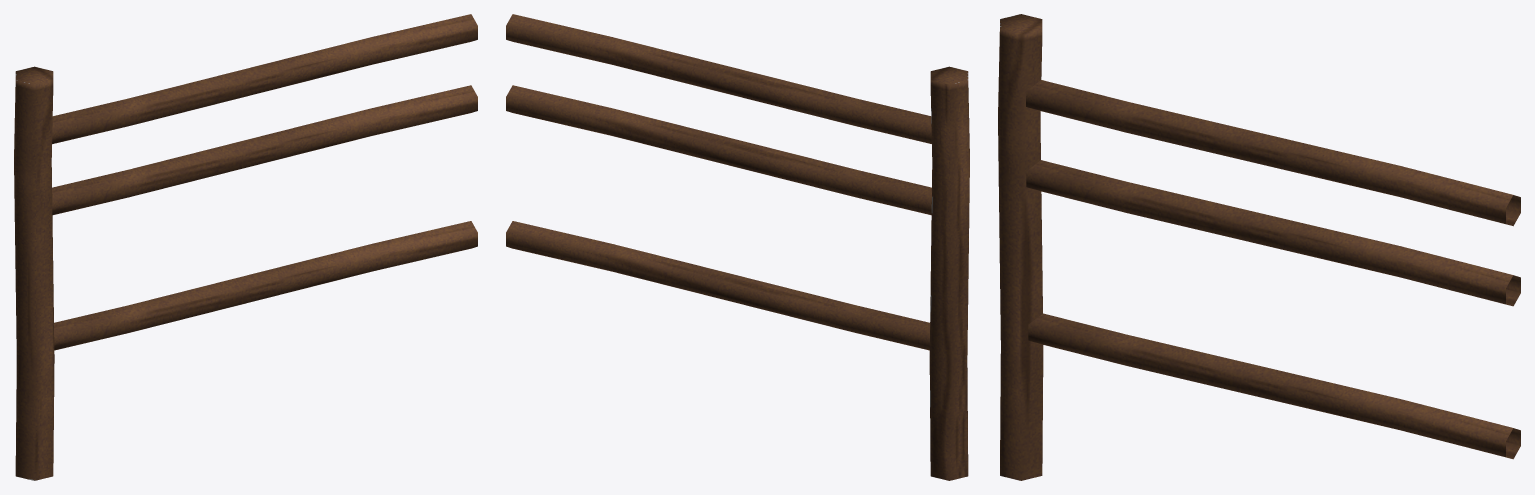
File: Fence_Wood.fbx
The picture shows the model from 3 angles, left to right: view 1: azimuth 30°, elevation 25°; view 2: azimuth 150°, elevation 25°; view 3: azimuth 330°, elevation 25°; orthographic projection. The views are drawn at different scales.
Parts seen in each view (by area): view 1: saku_wood; view 2: saku_wood; view 3: saku_wood.
Part boxes in pixels (bbox=[...]): saku_wood: bbox=[14, 14, 477, 480]; saku_wood: bbox=[506, 14, 969, 480]; saku_wood: bbox=[998, 14, 1520, 480].
Size of the model in its own units: 0.0546 by 0.0452 by 0.00392.
1 material, 1 textured.
